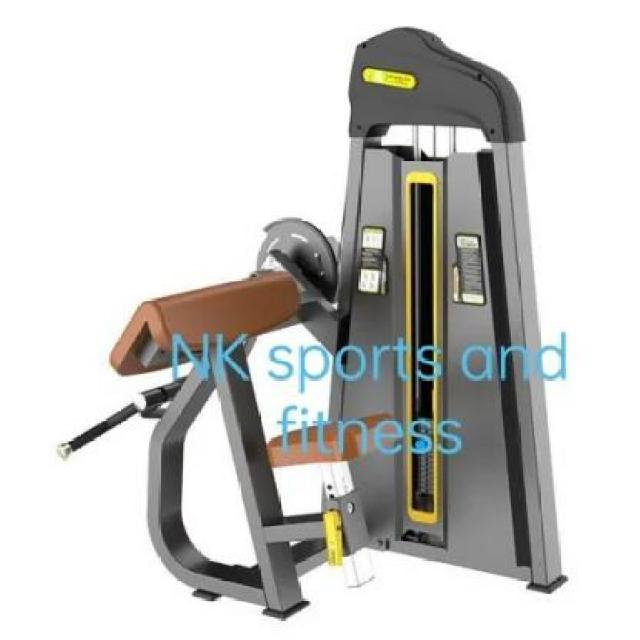arm curl machine: (54, 28, 569, 622)
